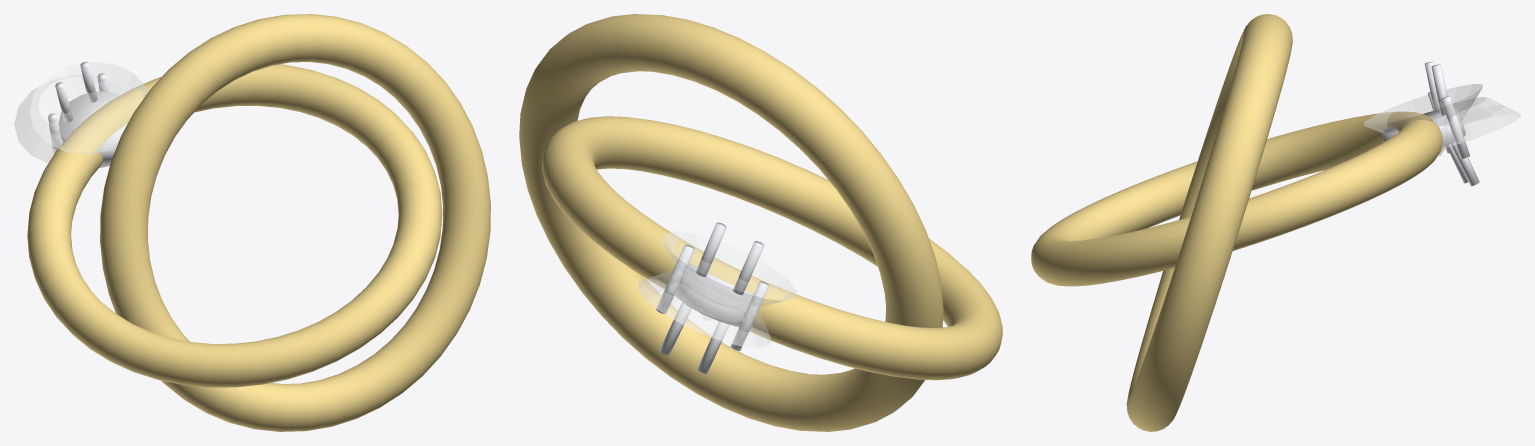
File: wedding_rings.glb
3 renders of one model, left to right at view 1: azimuth 30°, elevation 25°; view 2: azimuth 150°, elevation 25°; view 3: azimuth 270°, elevation 25°, orthographic. The views are drawn at different scales.
Visible parts, largest first — view 1: Ring_Band_Complete, Ring_Solitaire_Complete; view 2: Ring_Band_Complete, Ring_Solitaire_Complete; view 3: Ring_Solitaire_Complete, Ring_Band_Complete.
Boxes of the visible parts, <box> form: Ring_Band_Complete: <box>100,14,490,431</box>; Ring_Solitaire_Complete: <box>14,61,442,387</box>; Ring_Band_Complete: <box>519,14,943,431</box>; Ring_Solitaire_Complete: <box>542,116,1002,380</box>; Ring_Solitaire_Complete: <box>1031,61,1520,286</box>; Ring_Band_Complete: <box>1126,14,1292,431</box>.
Size of the model in its own units: 2.12 by 1.85 by 2.16.
